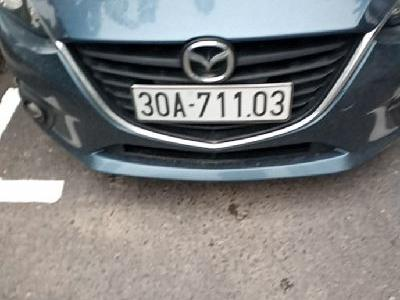lisence: (129, 83, 293, 123)
